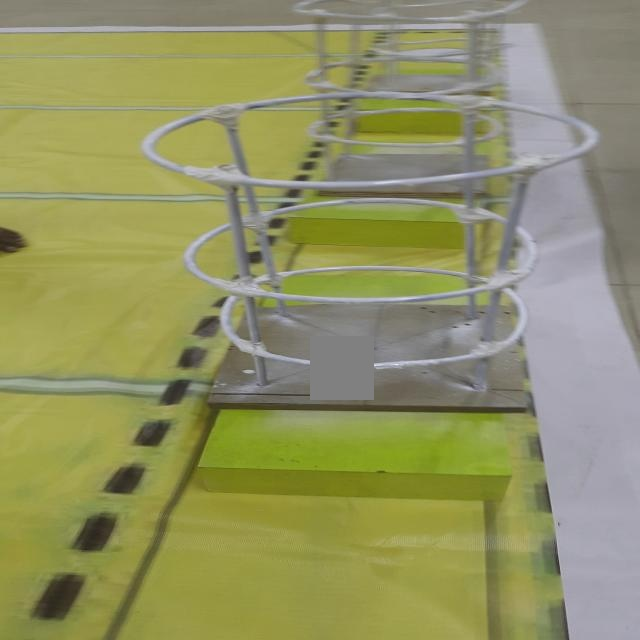silo: (150, 96, 550, 409), (303, 2, 514, 206)
